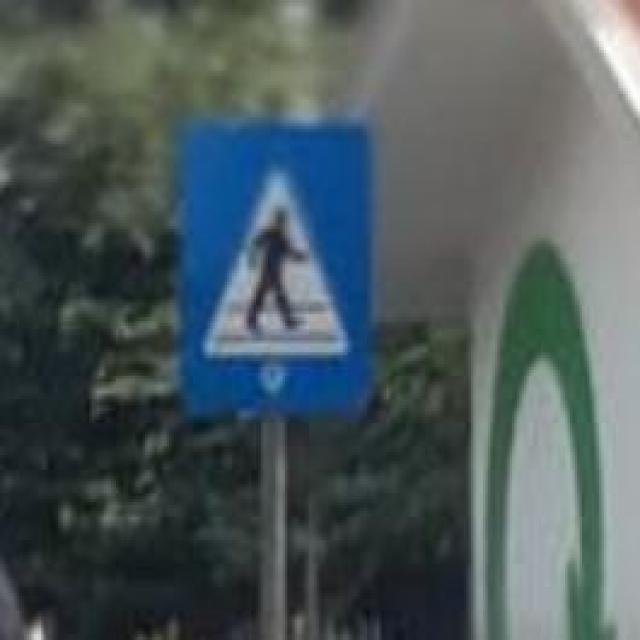traffic sign: (179, 120, 362, 420)
